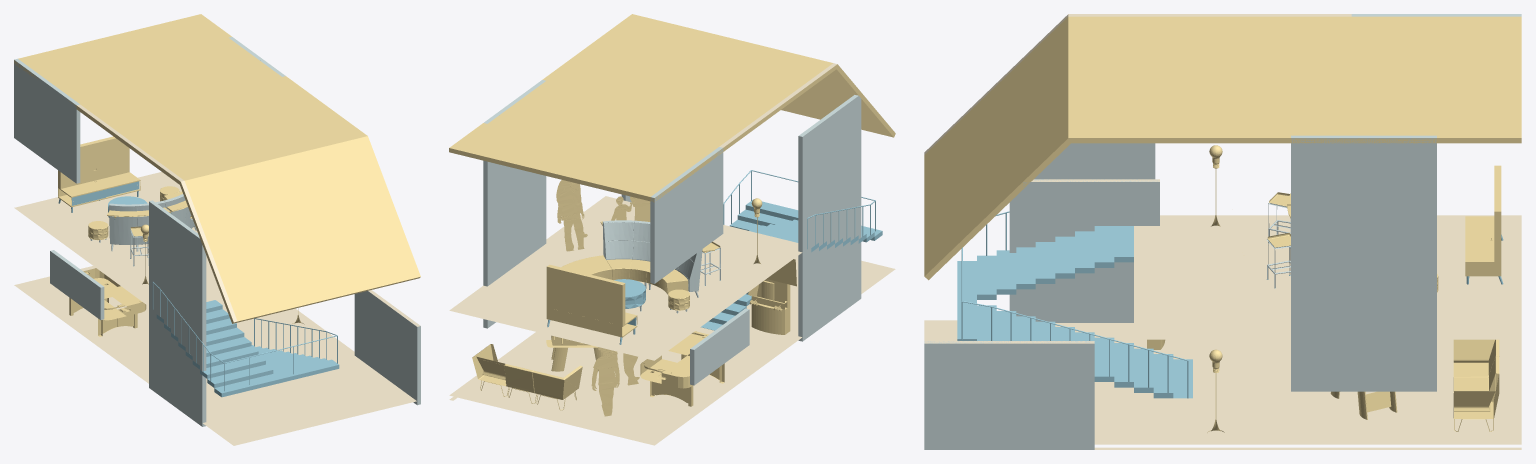
File: recreation_model.glb
The picture shows the model from 3 angles, left to right: view 1: azimuth 30°, elevation 25°; view 2: azimuth 150°, elevation 25°; view 3: azimuth 270°, elevation 25°; orthographic projection. The views are drawn at different scales.
Visible parts, largest first — view 1: Layer 01, Recreation, Layer 04, Layer 02, AFUFR-3-BYLM, Layer0, AFUCH-3-BKFB, AFUCH-3-STFB, AFUFR-3-DRLM, AFUCH-3-SHLM; view 2: Layer 01, Recreation, Layer 04, Layer0, AFUFR-3-BYLM, Layer 02, AFUCH-3-STFB, AFUCH-3-BKFB, AFUCH-3-TBLM; view 3: Layer 01, Layer 04, Recreation, Layer 02, Layer0, AFUFR-3-BYLM, AFUCH-3-FM.
Part boxes in pixels (x1,y1,x2,y2): Layer 01: [14, 14, 420, 323]; Recreation: [14, 104, 419, 445]; Layer 04: [14, 37, 420, 426]; Layer 02: [152, 282, 339, 397]; AFUFR-3-BYLM: [58, 136, 140, 207]; Layer0: [69, 224, 304, 336]; AFUCH-3-BKFB: [109, 194, 194, 244]; AFUCH-3-STFB: [88, 186, 182, 240]; AFUFR-3-DRLM: [71, 181, 139, 205]; AFUCH-3-SHLM: [107, 200, 187, 216]; Layer 01: [449, 14, 895, 202]; Recreation: [449, 63, 895, 445]; Layer 04: [483, 80, 861, 385]; Layer0: [472, 180, 796, 416]; AFUFR-3-BYLM: [546, 264, 637, 337]; Layer 02: [701, 170, 882, 330]; AFUCH-3-STFB: [561, 255, 689, 310]; AFUCH-3-BKFB: [602, 220, 702, 291]; AFUCH-3-TBLM: [614, 279, 645, 308]; Layer 01: [924, 16, 1521, 280]; Layer 04: [924, 14, 1521, 449]; Recreation: [924, 14, 1521, 449]; Layer 02: [957, 211, 1192, 398]; Layer0: [1147, 145, 1499, 432]; AFUFR-3-BYLM: [1465, 165, 1501, 276]; AFUCH-3-FM: [1267, 203, 1290, 287].
Size of the model in its own units: 4.96 by 5.84 by 10.07.
